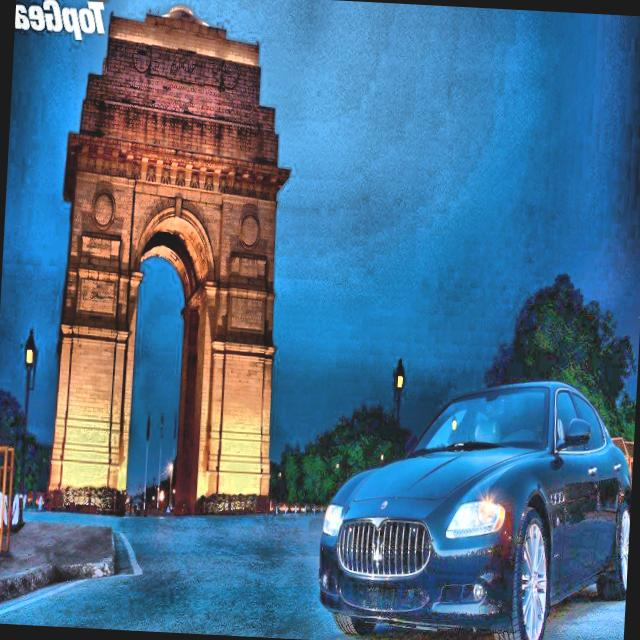Car: (315, 370, 637, 640)
